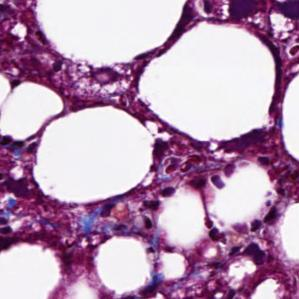inflammation: (227, 228, 281, 270), (157, 133, 206, 177)
